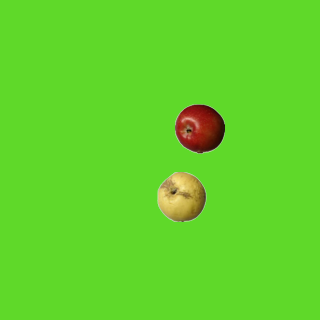Apple Braeburn: (174, 103, 224, 153)
Apple Golden 1: (156, 171, 206, 221)
